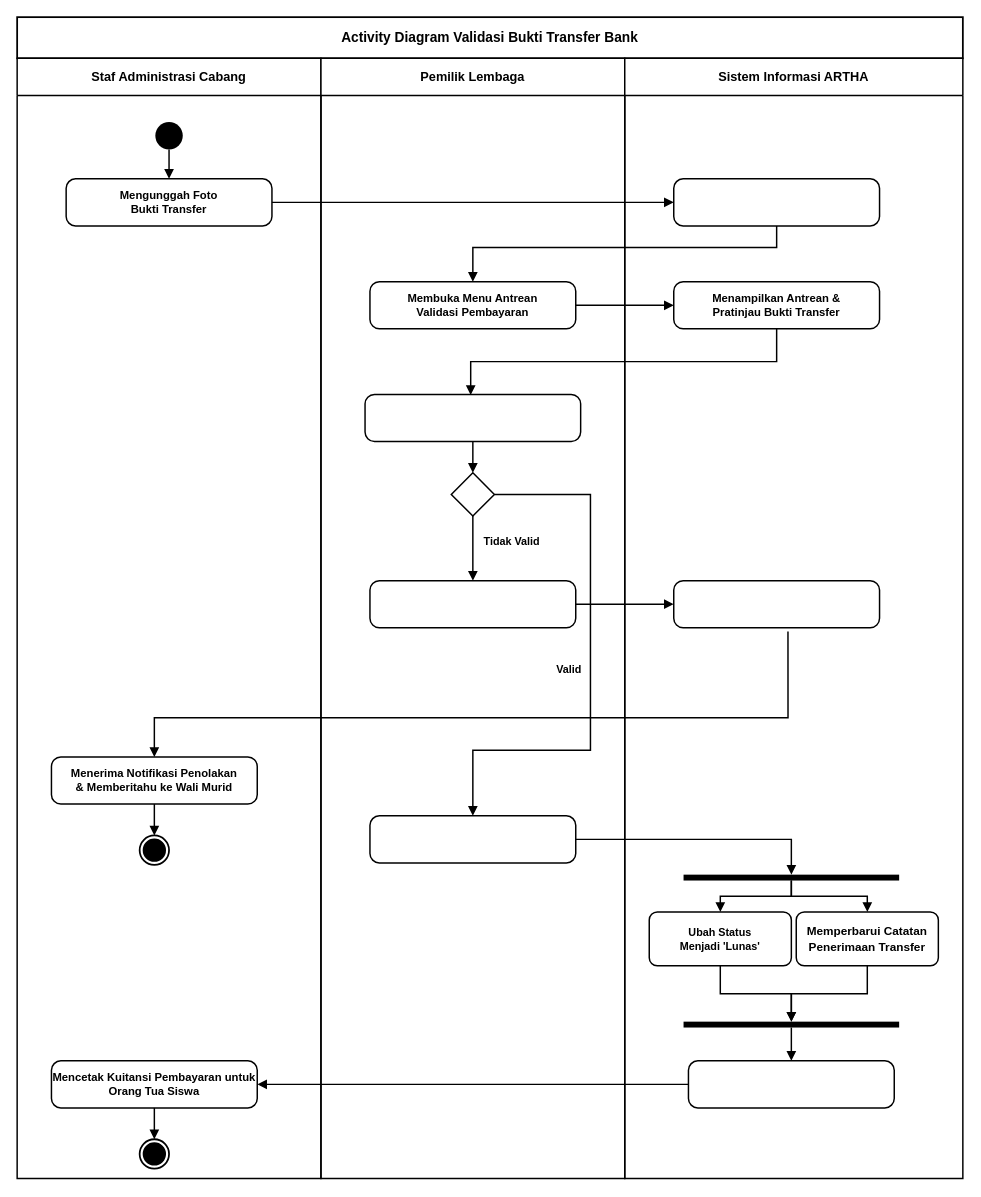
Image size: 981x1197. Some labels were removed from this diagram. Here are the shapes that lost their labels. From the top down, the centre of each, then its label:
At (776,202): "Menyimpan Berkas & Status 'Menunggu Validasi'".
At (472,417): "Memeriksa Kesesuaian Bukti Transfer dengan Mutasi Rekening Bank".
At (472,603): "Memasukkan Catatan Alasan Penolakan Transaksi".
At (776,603): "Status 'Ditolak' & Kirim Notifikasi ke Cabang".
At (472,839): "Menekan Tombol Konfirmasi Validasi Pembayaran".
At (791,1084): "Menyediakan Kuitansi Pembayaran dalam Format PDF".
